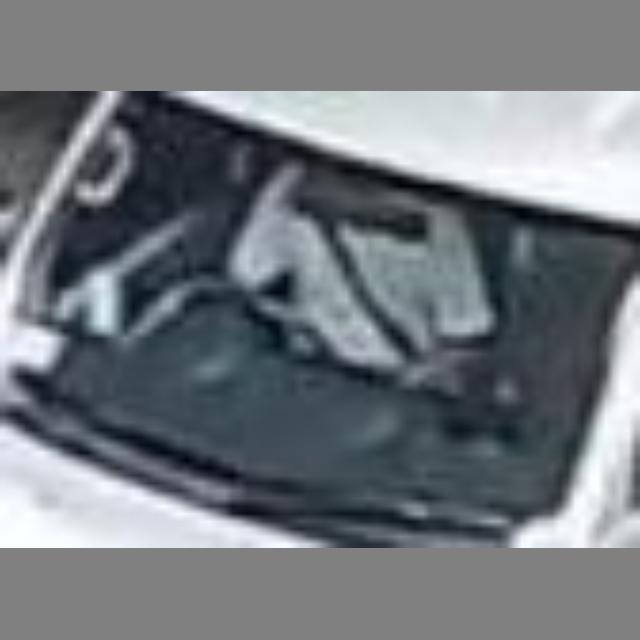pakai: (229, 160, 480, 403)
